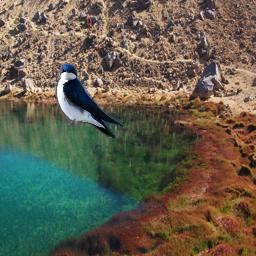Swallow: (55, 63, 123, 138)
